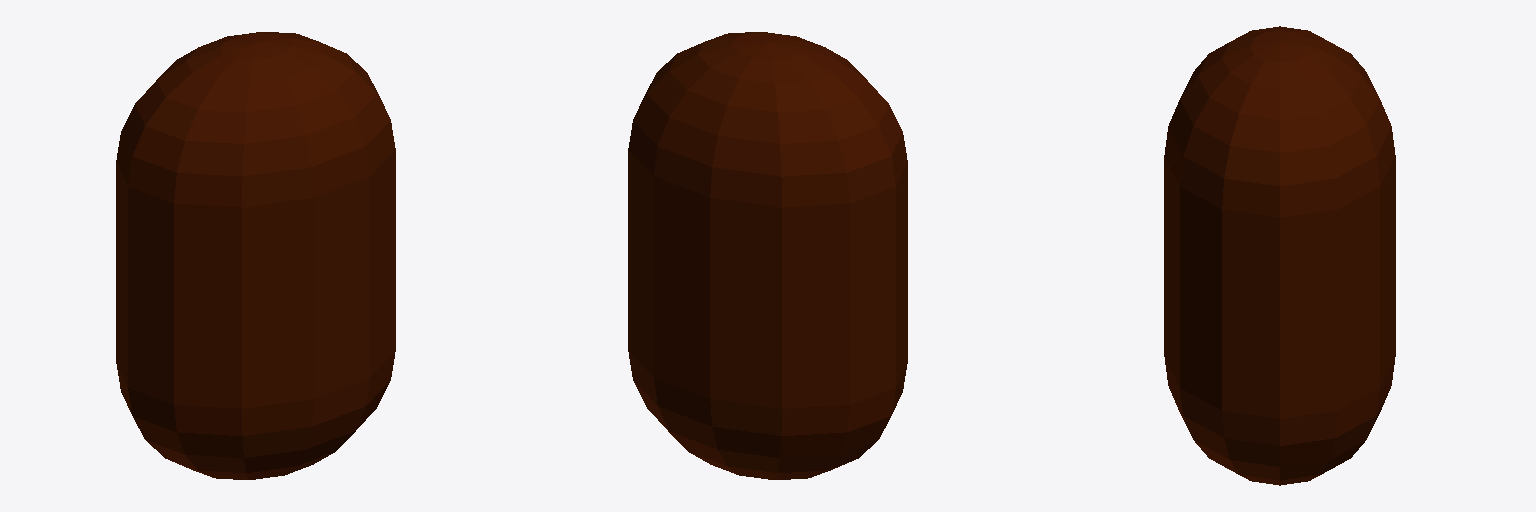
The model's file is player_body.obj.
3 renders of one model, left to right at view 1: azimuth 30°, elevation 25°; view 2: azimuth 150°, elevation 25°; view 3: azimuth 270°, elevation 25°, orthographic.
Parts seen in each view (by area): view 1: Capsule002; view 2: Capsule002; view 3: Capsule002.
Boxes of the visible parts, x1,y1,x2,y2 form: Capsule002: [116, 32, 395, 479]; Capsule002: [628, 32, 907, 479]; Capsule002: [1164, 26, 1395, 485].
Bounding box in the file's own units: 16.39 × 26.12 × 12.82.